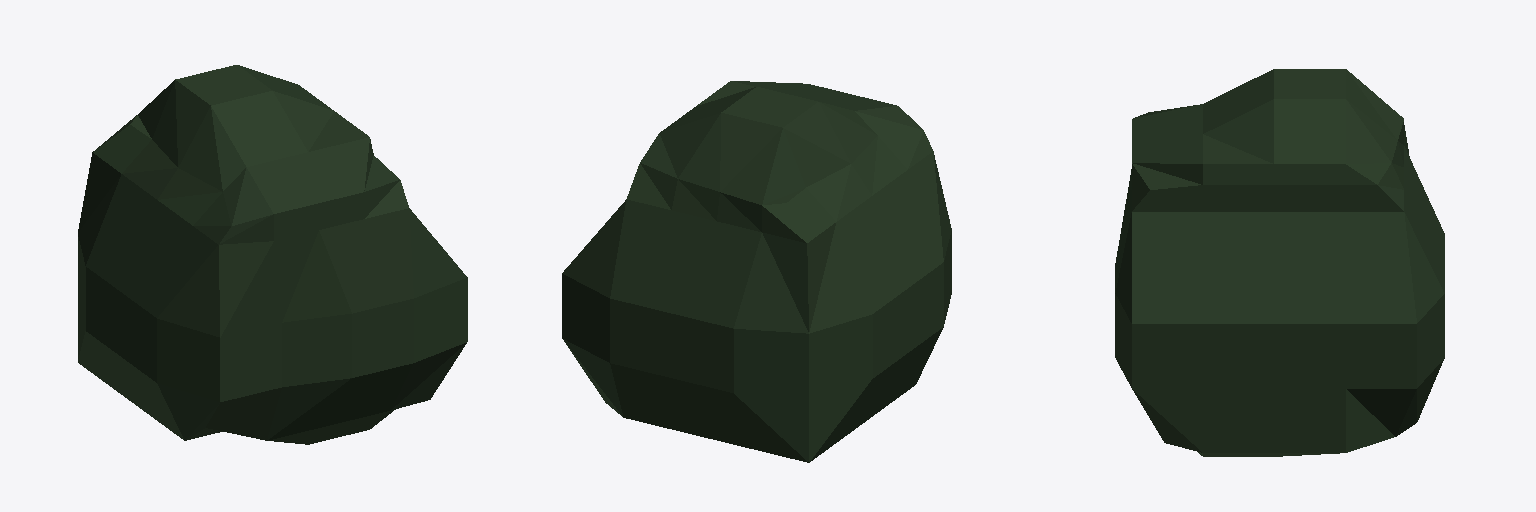
The model's file is Rock.obj.
The picture shows the model from 3 angles: view 1: azimuth 30°, elevation 25°; view 2: azimuth 150°, elevation 25°; view 3: azimuth 270°, elevation 25°; orthographic projection.
Parts seen in each view (by area): view 1: Rock; view 2: Rock; view 3: Rock.
Boxes of the visible parts, <box> form: Rock: <box>78,65,467,444</box>; Rock: <box>562,81,951,462</box>; Rock: <box>1115,69,1444,456</box>.
Bounding box in the file's own units: 1.11 × 1.27 × 1.15.